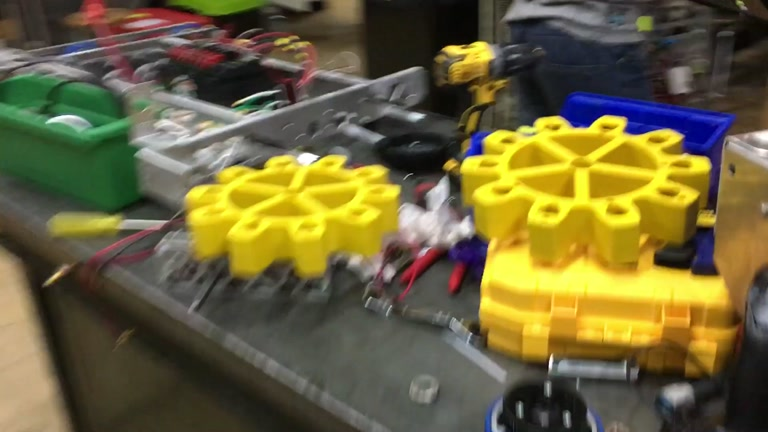gear: (458, 112, 713, 266), (184, 154, 402, 276)
